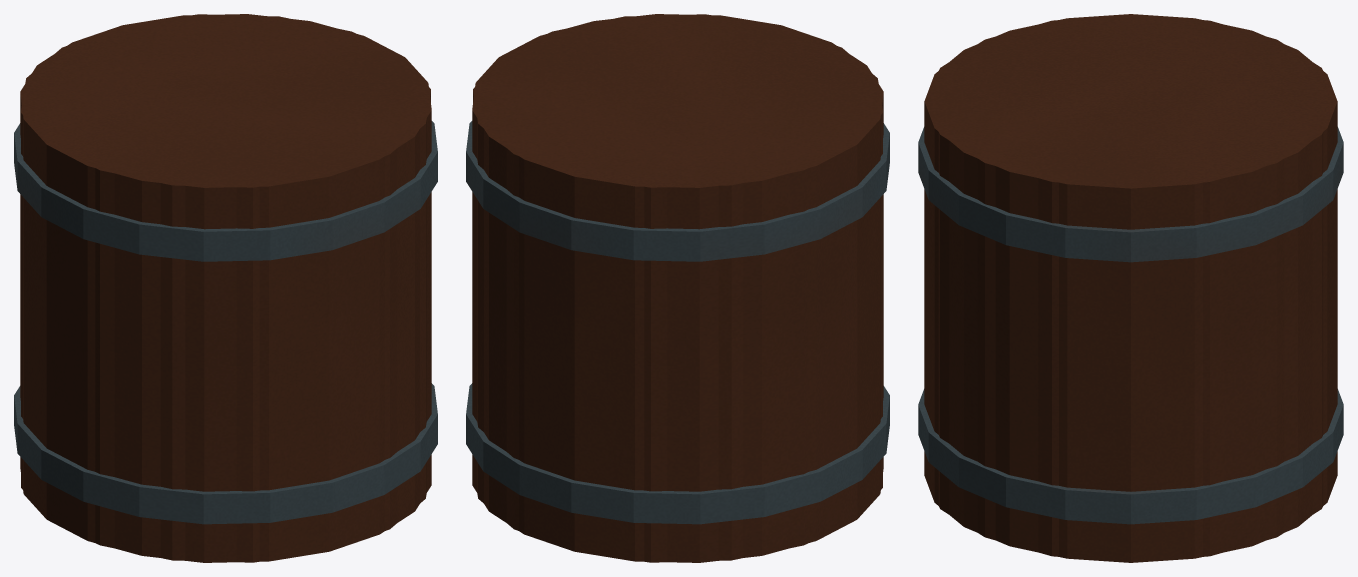
Rendered from Cover_Barrel.fbx.
The picture shows the model from 3 angles, left to right: view 1: azimuth 30°, elevation 25°; view 2: azimuth 150°, elevation 25°; view 3: azimuth 270°, elevation 25°; orthographic projection.
Parts seen in each view (by area): view 1: ENV_Foundry_Cover_Barrel_LOD0, COL_Foundry_Cover_Barrel_00_Both; view 2: ENV_Foundry_Cover_Barrel_LOD0, COL_Foundry_Cover_Barrel_00_Both; view 3: ENV_Foundry_Cover_Barrel_LOD0, COL_Foundry_Cover_Barrel_00_Both.
Boxes of the visible parts, x1=… form: ENV_Foundry_Cover_Barrel_LOD0: x1=14, y1=14, x2=437, y2=562; COL_Foundry_Cover_Barrel_00_Both: x1=21, y1=14, x2=430, y2=562; ENV_Foundry_Cover_Barrel_LOD0: x1=466, y1=14, x2=889, y2=562; COL_Foundry_Cover_Barrel_00_Both: x1=473, y1=14, x2=882, y2=562; ENV_Foundry_Cover_Barrel_LOD0: x1=918, y1=14, x2=1343, y2=562; COL_Foundry_Cover_Barrel_00_Both: x1=924, y1=14, x2=1337, y2=556.
Size of what is drawn, in the model's own units: 1.03 by 1 by 1.03.
